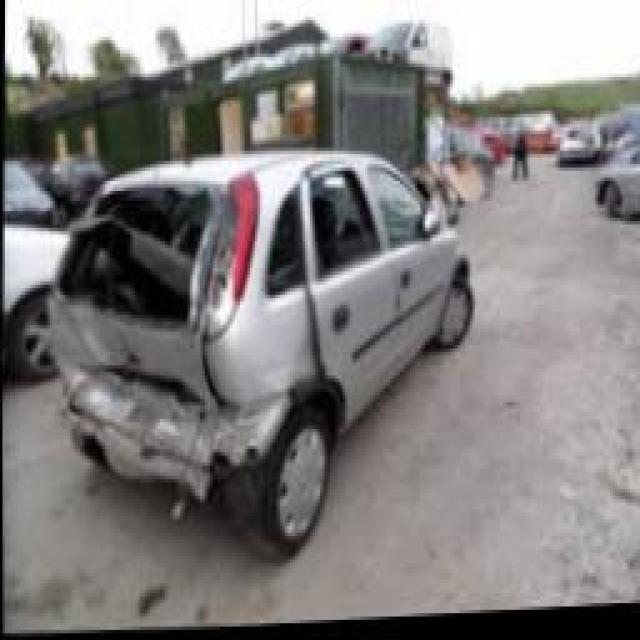Bumper: (51, 375, 289, 498)
Dickey: (50, 186, 223, 415)
Light: (201, 177, 258, 348)
